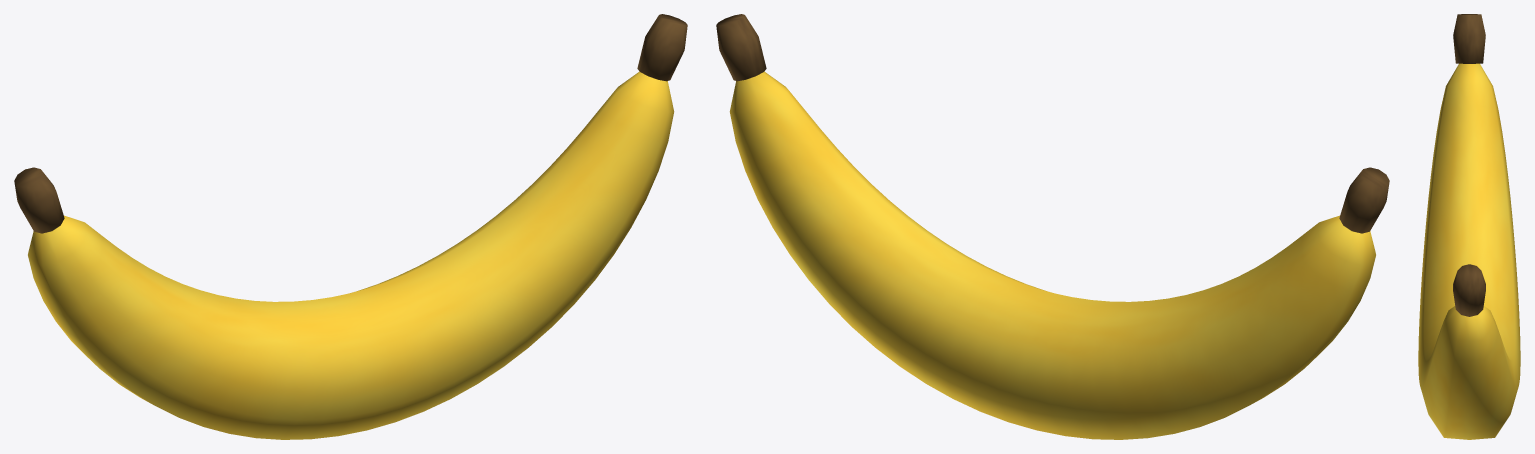
File: Banana.fbx
3 views of the same model, side by side, from view 1: azimuth 30°, elevation 25°; view 2: azimuth 150°, elevation 25°; view 3: azimuth 270°, elevation 25° (orthographic). The views are drawn at different scales.
Parts seen in each view (by area): view 1: Banana; view 2: Banana; view 3: Banana.
Part boxes in pixels (left/top/right/bottom): Banana: left=14, top=14, right=687, bottom=439; Banana: left=716, top=14, right=1389, bottom=439; Banana: left=1418, top=14, right=1520, bottom=439.
Bounding box in the file's own units: 137 × 64.03 × 22.
